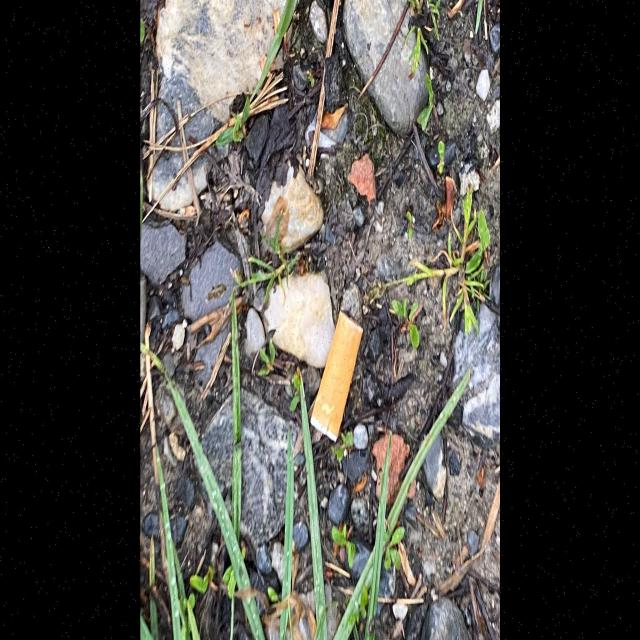other waste: (310, 309, 364, 444)
